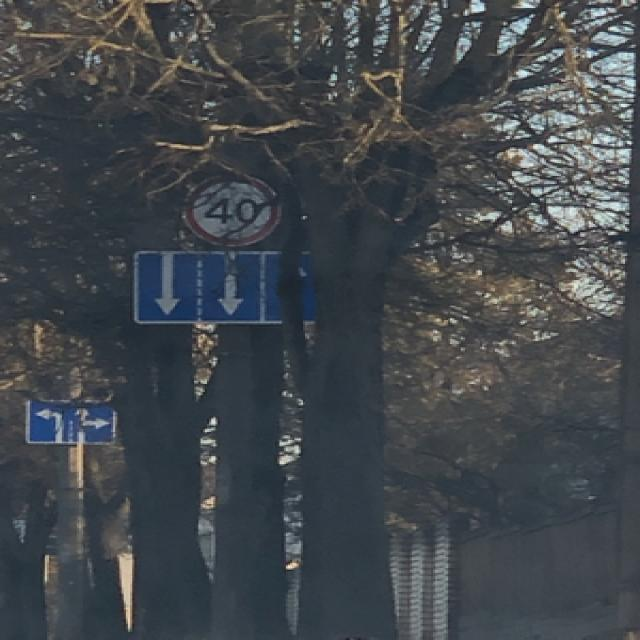speedlimit: (181, 171, 273, 242)
